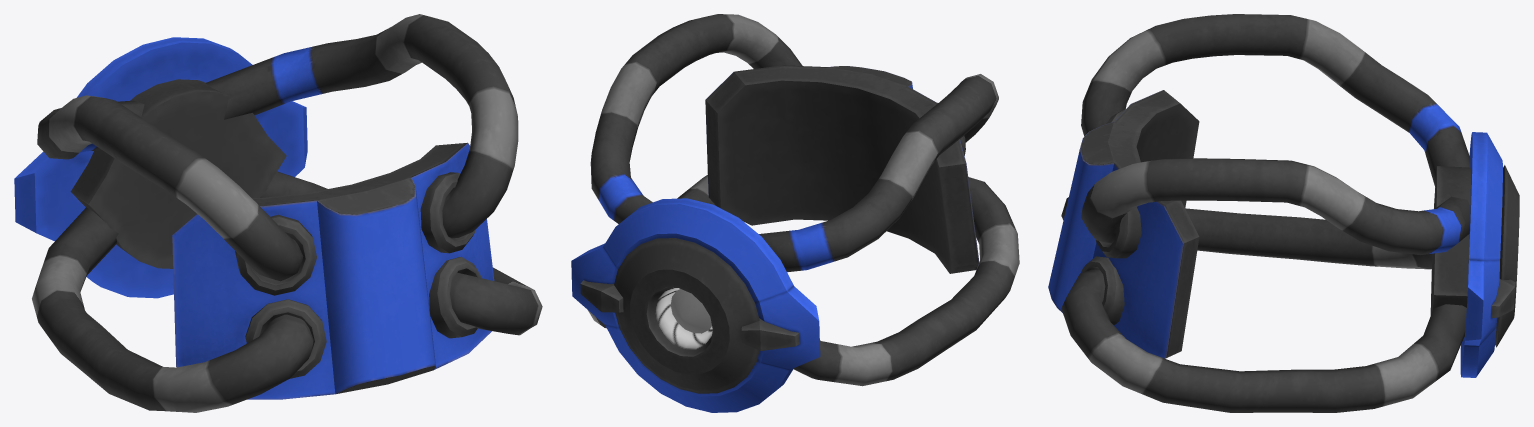
File: IG_Armor_Fleeze.fbx
3 views of the same model, side by side, from view 1: azimuth 30°, elevation 25°; view 2: azimuth 150°, elevation 25°; view 3: azimuth 270°, elevation 25° (orthographic). The views are drawn at different scales.
Visible parts, largest first — view 1: Clothes_TwinsBoss; view 2: Clothes_TwinsBoss; view 3: Clothes_TwinsBoss.
Boxes of the visible parts, x1,y1,x2,y2 form: Clothes_TwinsBoss: (14,14,542,412); Clothes_TwinsBoss: (571,14,1019,412); Clothes_TwinsBoss: (1048,14,1519,412).
Bounding box in the file's own units: 0.6493 × 0.4774 × 0.7323.
